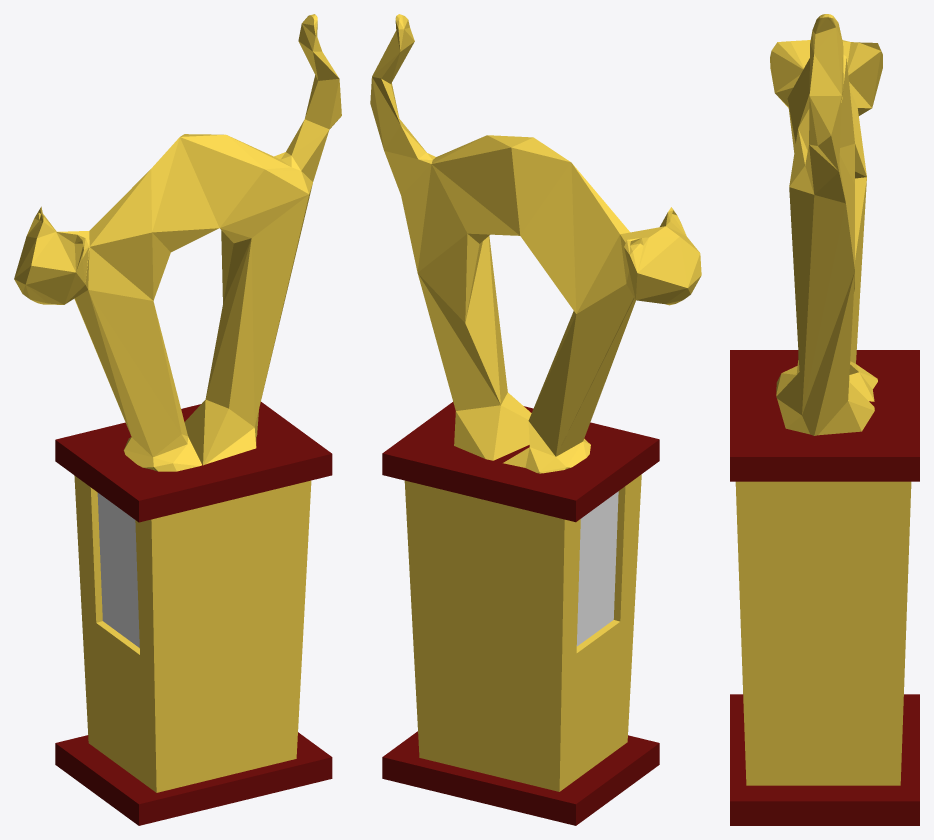
The model's file is goldCatred.FBX.
3 renders of one model, left to right at view 1: azimuth 30°, elevation 25°; view 2: azimuth 150°, elevation 25°; view 3: azimuth 270°, elevation 25°, orthographic. The views are drawn at different scales.
Visible parts, largest first — view 1: Object236; view 2: Object236; view 3: Object236.
Part boxes in pixels (x1,y1,x2,y2): Object236: (14,14,341,825); Object236: (370,14,701,825); Object236: (730,14,919,825).
Size of the model in its own units: 10.44 by 22.51 by 4.69.
